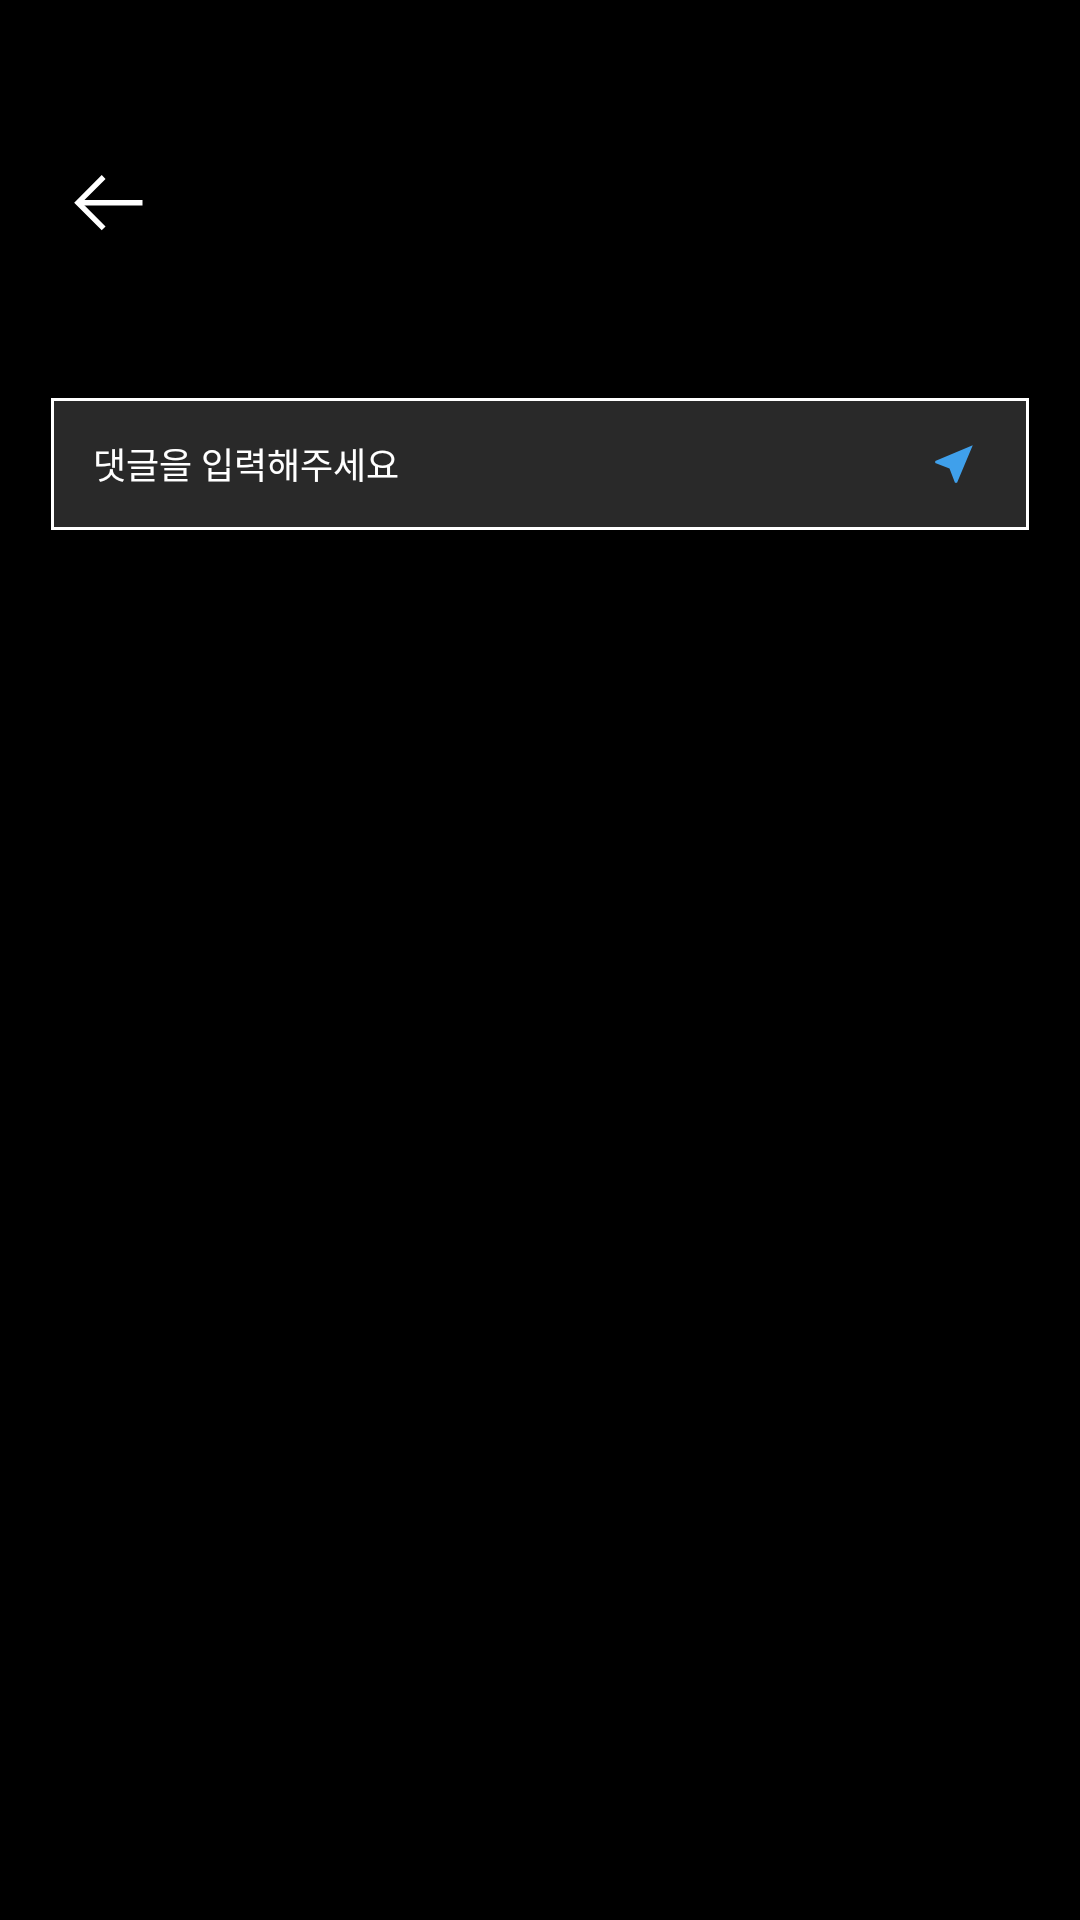

Named icons in this screenshot (1080*1920) and their centers, point (x, y):
back: point (108, 202)
chat send: point (954, 464)
